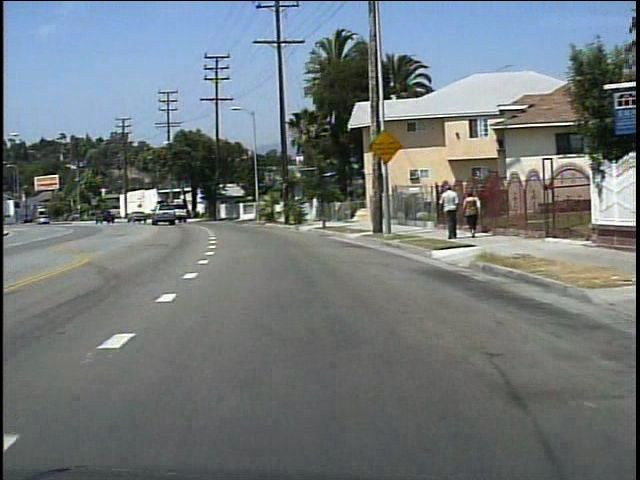person: (436, 181, 458, 241), (457, 189, 482, 241)
